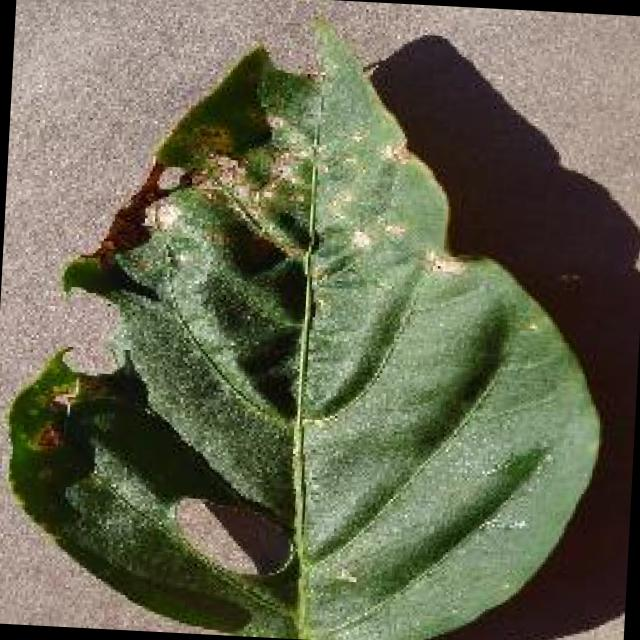Chilli_Bacterial_Spot: (0, 1, 627, 640), (28, 364, 114, 462), (28, 384, 82, 458), (414, 242, 466, 280), (140, 193, 182, 238), (30, 418, 67, 454), (44, 386, 76, 420)
